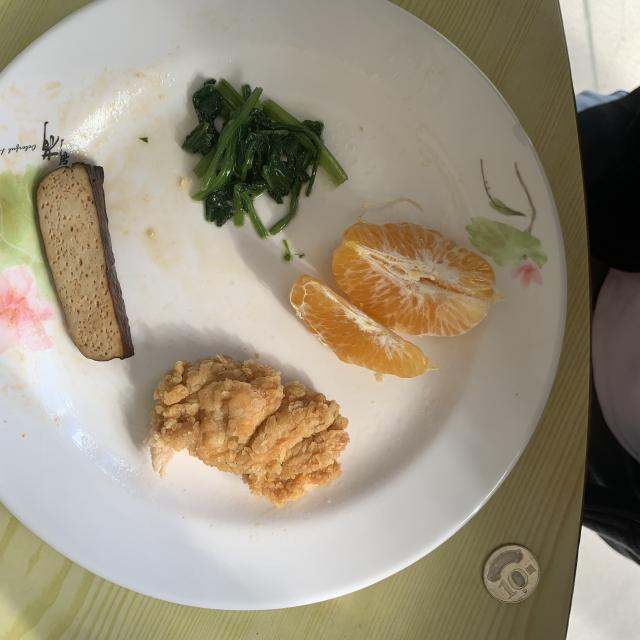coin: (482, 545, 539, 602)
firm tofu: (36, 162, 134, 361)
fried chicken cutlet: (148, 355, 349, 506)
mustard greens: (182, 80, 348, 238)
